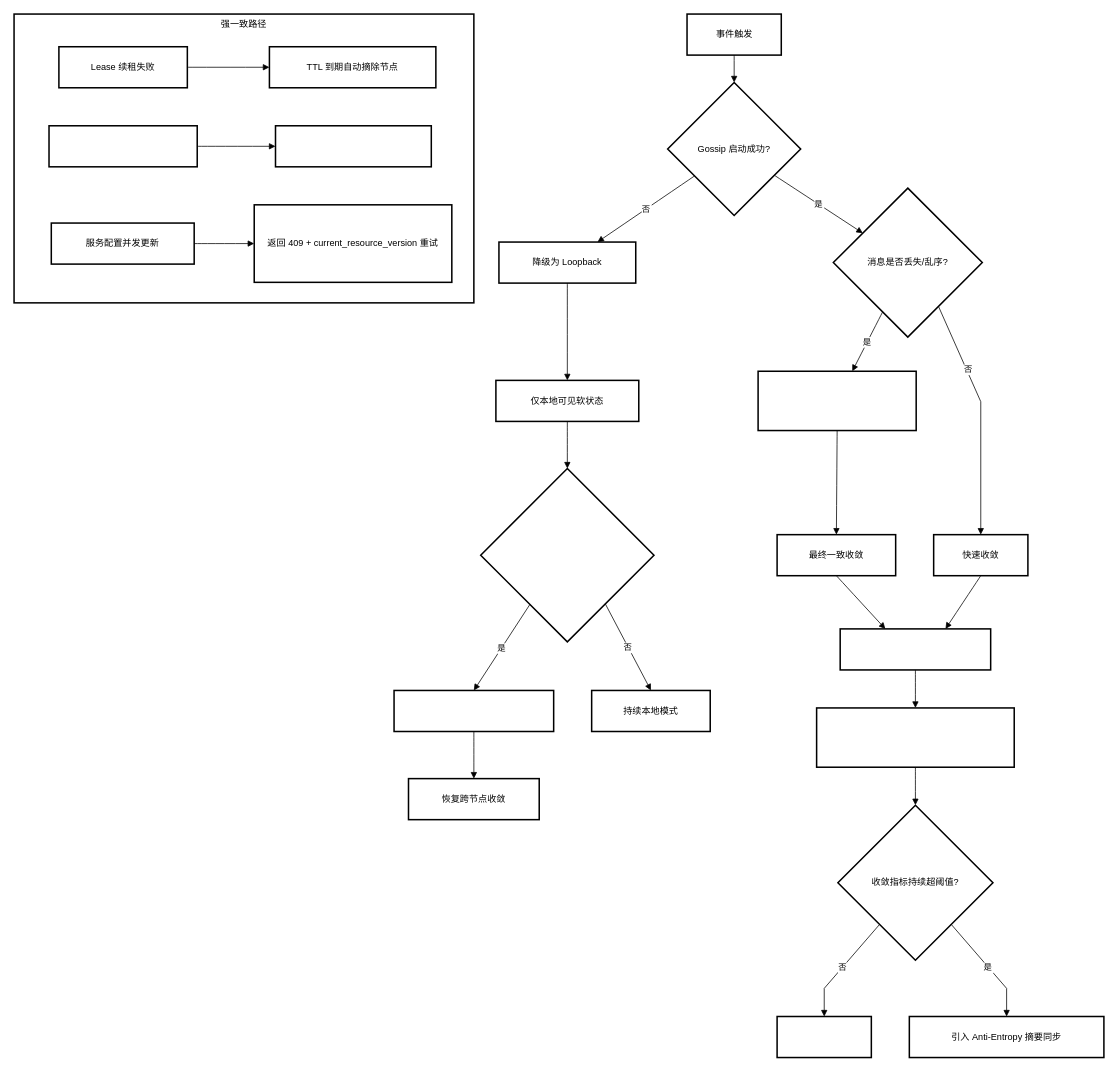
The diagram is 1117 pixels wide and 1071 high, and some of its shapes have lost their labels. Each missing label, with the centre of its shape:
"force=true 保护策略" goes at pixel 353 146.
"Merge 比较来源、序号和时间" goes at pixel 837 400.
"TTL 到期 + GC 清理" goes at pixel 915 649.
"无需反熵" goes at pixel 824 1036.
"误驱逐 leader 请求" goes at pixel 123 146.
"进程是否重启?" goes at pixel 567 554.
"通过 /api/v1/softkv/stats 观察" goes at pixel 915 737.
"重新启动 memberlist" goes at pixel 473 710.
